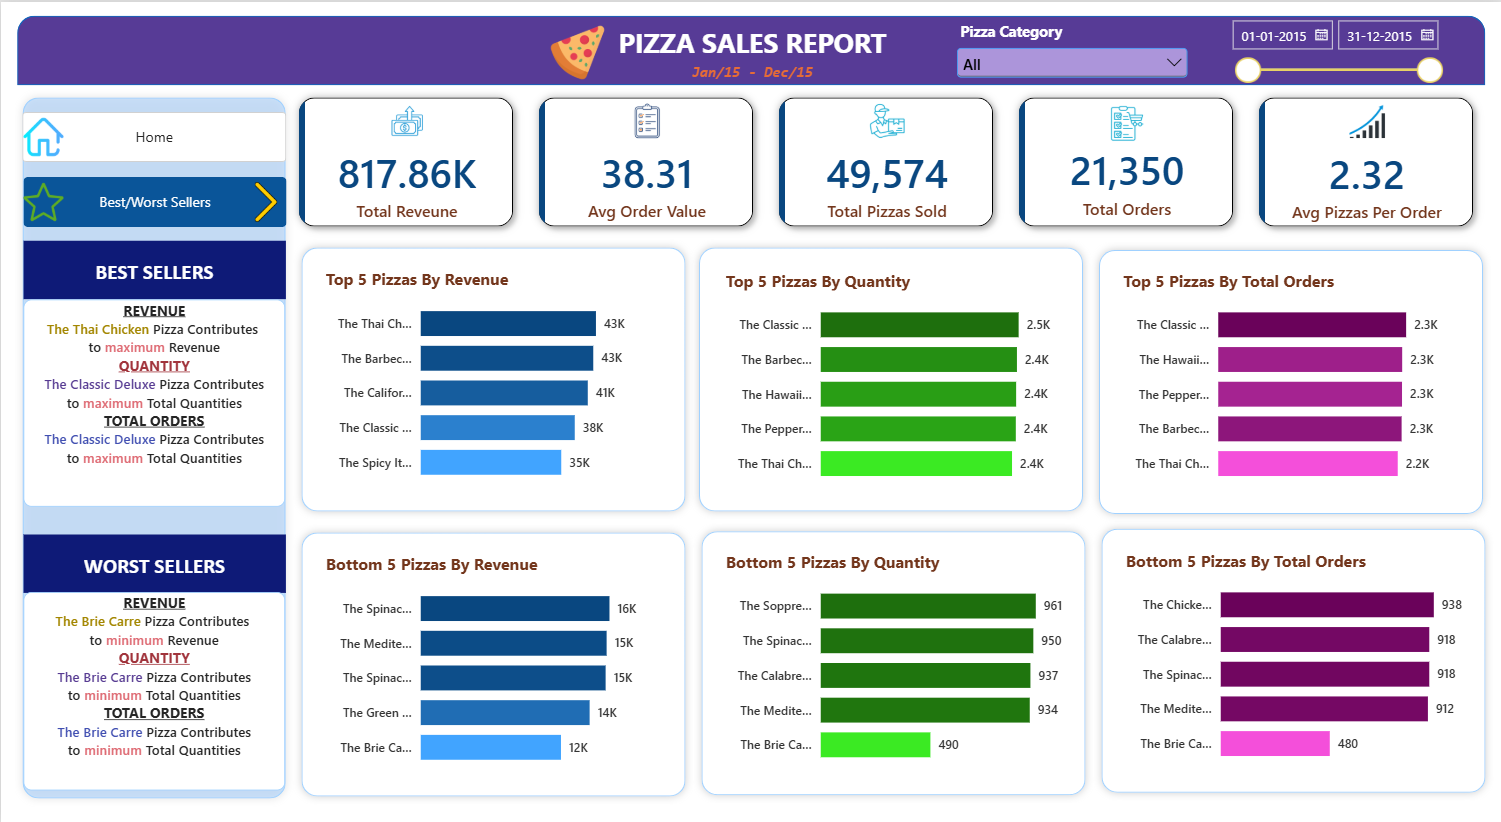

The dashboard page shown, as its layout file describes it:
{"tool":"powerbi","page":{"name":"Best/Worst Sellers","canvas":[1500,820],"ordinal":1},"visuals":[{"type":"cardVisual","fields":{"Data":["pizza_sales.Total Reveune","pizza_sales.Avg Order Value","pizza_sales.Total Pizzas Sold","pizza_sales.Total Orders","pizza_sales.Avg Pizzas Per Order"]},"box":[284.4,82.8,1200,155],"z":0},{"type":"shape","box":[15.6,14.1,1468.1,69.4],"z":1000},{"type":"textbox","box":[609.4,21.9,282.8,53.1],"z":2000},{"type":"textbox","box":[664.1,59.4,175,31.2],"z":3000},{"type":"image","box":[543.8,21.9,65.6,56.2],"z":4000},{"type":"shape","box":[293,238,400,280],"z":5000},{"type":"shape","box":[690.1,238,400,280],"z":6000},{"type":"shape","box":[293,522.5,400,280],"z":7000},{"type":"shape","box":[1093,518.3,400,280],"z":8000},{"type":"shape","box":[693,521.1,400,280],"z":9000},{"type":"shape","box":[14.1,87.3,278.9,716.9],"z":10000},{"type":"textbox","box":[22.9,238.6,262,58.6],"z":11000},{"type":"textbox","box":[22.5,297.2,262,207],"z":12000},{"type":"textbox","box":[22.5,532.4,262,58],"z":13000},{"type":"textbox","box":[22.5,590.1,262,198.6],"z":14000},{"type":"slicer","fields":{"Values":["pizza_sales.pizza_category"]},"box":[951.4,18.6,240,61.4],"z":15000},{"type":"slicer","fields":{"Values":["pizza_sales.order_date"]},"box":[1224.3,14.3,221.4,72.9],"z":16000},{"type":"shape","box":[1090.1,239.4,400,280],"z":17000},{"type":"barChart","title":"Top 5 Pizzas By Revenue","fields":{"Category":["pizza_sales.pizza_name"],"Y":["pizza_sales.Total Reveune"]},"box":[308.5,250.7,369,252.1],"z":18000},{"type":"barChart","title":"Bottom 5 Pizzas By Revenue","fields":{"Category":["pizza_sales.pizza_name"],"Y":["pizza_sales.Total Reveune"]},"box":[308.5,536.6,369,252.1],"z":19000},{"type":"barChart","title":"Top 5 Pizzas By Quantity","fields":{"Category":["pizza_sales.pizza_name"],"Y":["pizza_sales.Total Pizzas Sold"]},"box":[708.5,252.1,369,252.1],"z":20000},{"type":"barChart","title":"Bottom 5 Pizzas By Quantity","fields":{"Category":["pizza_sales.pizza_name"],"Y":["pizza_sales.Total Pizzas Sold"]},"box":[708.5,533.8,369,252.1],"z":21000},{"type":"barChart","title":"Top 5 Pizzas By Total Orders","fields":{"Category":["pizza_sales.pizza_name"],"Y":["pizza_sales.Total Orders"]},"box":[1105.6,252.1,369,252.1],"z":22000},{"type":"barChart","title":"Bottom 5 Pizzas By Total Orders","fields":{"Category":["pizza_sales.pizza_name"],"Y":["pizza_sales.Total Orders"]},"box":[1108.5,532.4,369,252.1],"z":23000},{"type":"pageNavigator","box":[22.5,174.6,263,50.7],"z":24000},{"type":"pageNavigator","box":[21.1,109.9,264,50.7],"z":25000},{"type":"image","box":[245.1,180.3,40,40],"z":26000},{"type":"image","box":[22.5,115.5,40,40],"z":27000},{"type":"image","box":[22.5,180.3,40,40],"z":28000}]}

Visuals, with their boxes in screenshot pixels (x1, y1, x2, y2), scaled from the page's 1500x820 canvas onto the 1501x822 screenshot:
cardVisual - pizza_sales.Total Reveune x pizza_sales.Avg Order Value: BBox(285, 83, 1485, 238)
shape: BBox(16, 14, 1485, 84)
textbox: BBox(610, 22, 893, 75)
textbox: BBox(665, 60, 840, 91)
image: BBox(544, 22, 610, 78)
shape: BBox(293, 239, 693, 519)
shape: BBox(691, 239, 1091, 519)
shape: BBox(293, 524, 693, 804)
shape: BBox(1094, 520, 1494, 800)
shape: BBox(693, 522, 1094, 803)
shape: BBox(14, 88, 293, 806)
textbox: BBox(23, 239, 285, 298)
textbox: BBox(23, 298, 285, 505)
textbox: BBox(23, 534, 285, 592)
textbox: BBox(23, 592, 285, 791)
slicer - pizza_sales.pizza_category: BBox(952, 19, 1192, 80)
slicer - pizza_sales.order_date: BBox(1225, 14, 1447, 87)
shape: BBox(1091, 240, 1491, 521)
"Top 5 Pizzas By Revenue" barChart: BBox(309, 251, 678, 504)
"Bottom 5 Pizzas By Revenue" barChart: BBox(309, 538, 678, 791)
"Top 5 Pizzas By Quantity" barChart: BBox(709, 253, 1078, 505)
"Bottom 5 Pizzas By Quantity" barChart: BBox(709, 535, 1078, 788)
"Top 5 Pizzas By Total Orders" barChart: BBox(1106, 253, 1476, 505)
"Bottom 5 Pizzas By Total Orders" barChart: BBox(1109, 534, 1478, 786)
pageNavigator: BBox(23, 175, 286, 226)
pageNavigator: BBox(21, 110, 285, 161)
image: BBox(245, 181, 285, 221)
image: BBox(23, 116, 63, 156)
image: BBox(23, 181, 63, 221)
